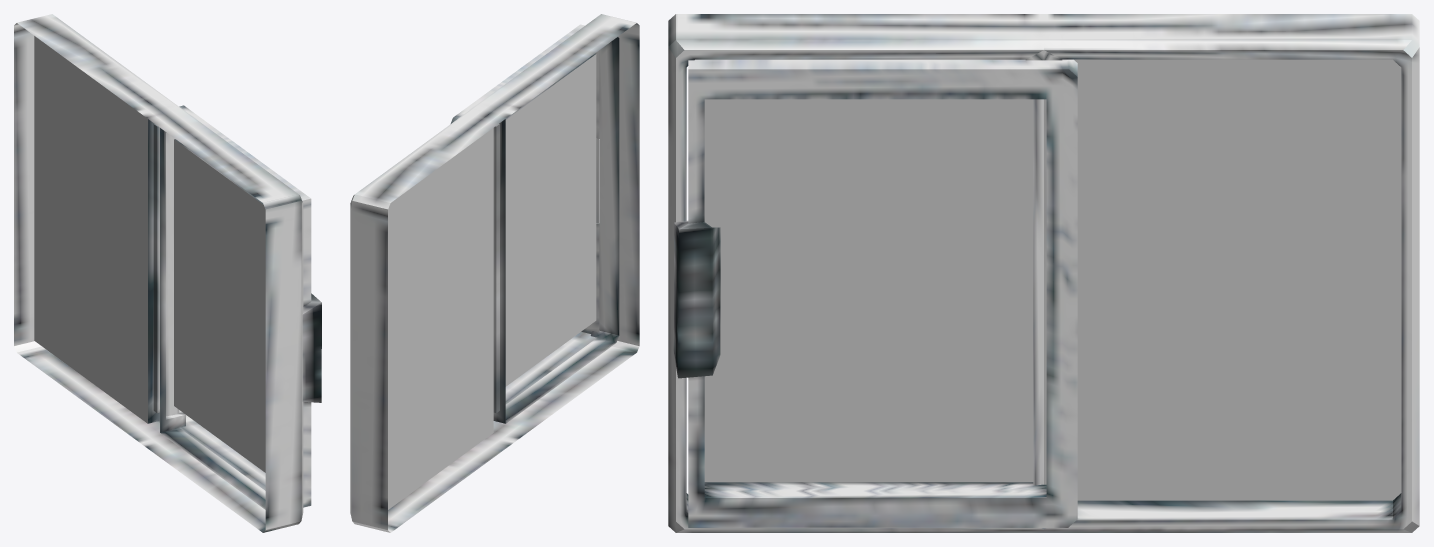
Rendered from SlidingWindow.fbx.
3 renders of one model, left to right at view 1: azimuth 30°, elevation 25°; view 2: azimuth 150°, elevation 25°; view 3: azimuth 270°, elevation 25°, orthographic. The views are drawn at different scales.
Parts seen in each view (by area): view 1: SlidingWindow; view 2: SlidingWindow; view 3: SlidingWindow.
Part boxes in pixels (x1,y1,x2,y2): SlidingWindow: [14, 14, 321, 532]; SlidingWindow: [350, 14, 639, 532]; SlidingWindow: [668, 14, 1419, 532].
Size of the model in its own units: 18.62 by 97.17 by 134.
